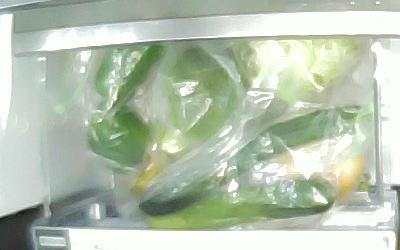broccoli_vinyl: (166, 47, 245, 139)
cucumber_vinyl: (136, 102, 361, 218), (143, 178, 335, 232)
grapefruit_vinyl: (278, 147, 362, 201)
lettuce_vinyl: (231, 39, 362, 104)
paprika_vinyl: (93, 41, 165, 103), (87, 100, 152, 168)
